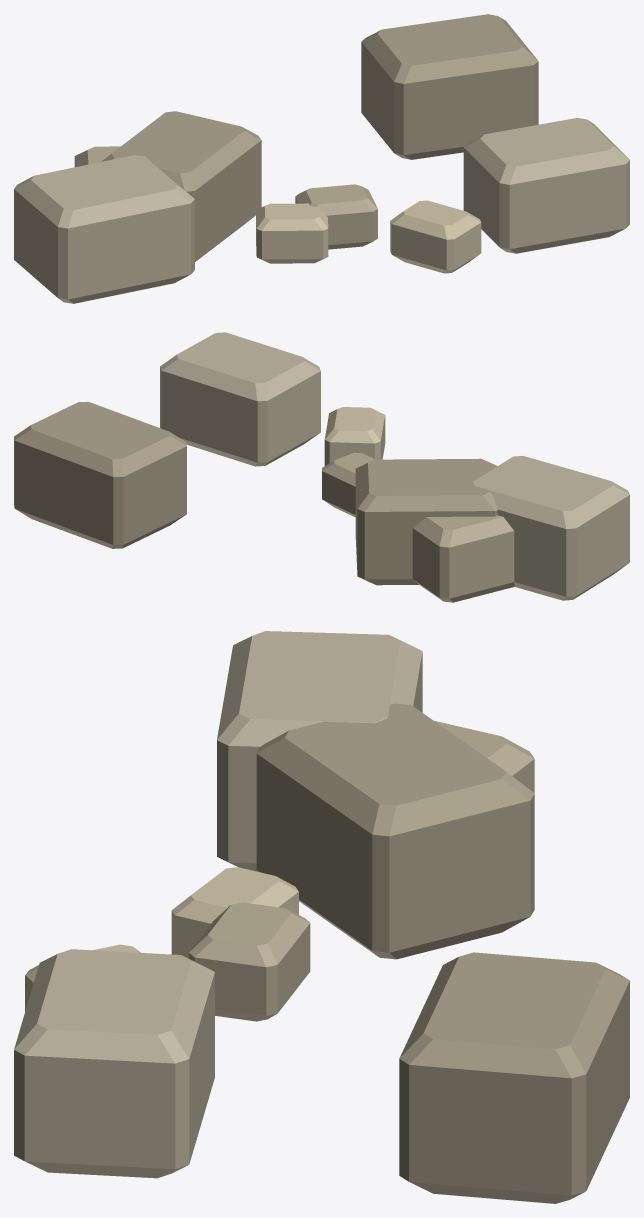
The model's file is Rubble_Stone_Chips.fbx.
The picture shows the model from 3 angles, top to bottom: view 1: azimuth 30°, elevation 25°; view 2: azimuth 150°, elevation 25°; view 3: azimuth 270°, elevation 25°; orthographic projection. The views are drawn at different scales.
Visible parts, largest first — view 1: Rubble_Stone_Chips; view 2: Rubble_Stone_Chips; view 3: Rubble_Stone_Chips.
Boxes of the visible parts, <box> form: Rubble_Stone_Chips: <box>14,14,629,303</box>; Rubble_Stone_Chips: <box>14,332,629,602</box>; Rubble_Stone_Chips: <box>14,631,629,1203</box>.
Size of the model in its own units: 1.3 by 0.2145 by 0.7746.
